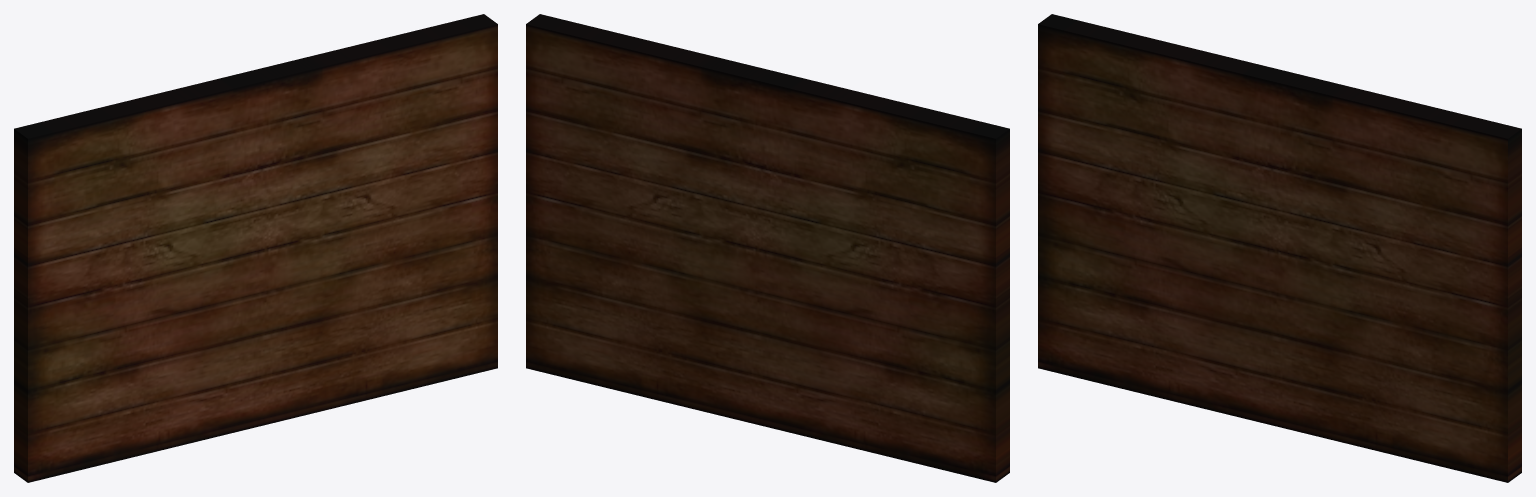
Rendered from pir_m_gui_srp_pitching_main.fbx.
The picture shows the model from 3 angles, left to right: view 1: azimuth 30°, elevation 25°; view 2: azimuth 150°, elevation 25°; view 3: azimuth 330°, elevation 25°; orthographic projection.
Parts seen in each view (by area): view 1: piece_hull; view 2: piece_hull; view 3: piece_hull.
Boxes of the visible parts, left/top/right/bottom form: piece_hull: left=14, top=14, right=497, bottom=482; piece_hull: left=526, top=14, right=1009, bottom=482; piece_hull: left=1038, top=14, right=1521, bottom=482.
Size of what is drawn, in the model's own units: 125 by 87.21 by 6.39.
Materials: 3 (3 with a texture image).
